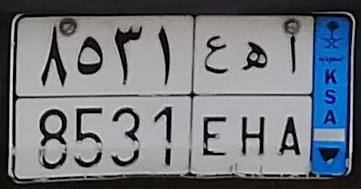1: (151, 25, 174, 167)
3: (111, 26, 144, 168)
5: (74, 34, 105, 168)
8: (37, 24, 68, 171)
A: (279, 33, 301, 159)
E: (202, 35, 230, 159)
H: (241, 40, 265, 157)
